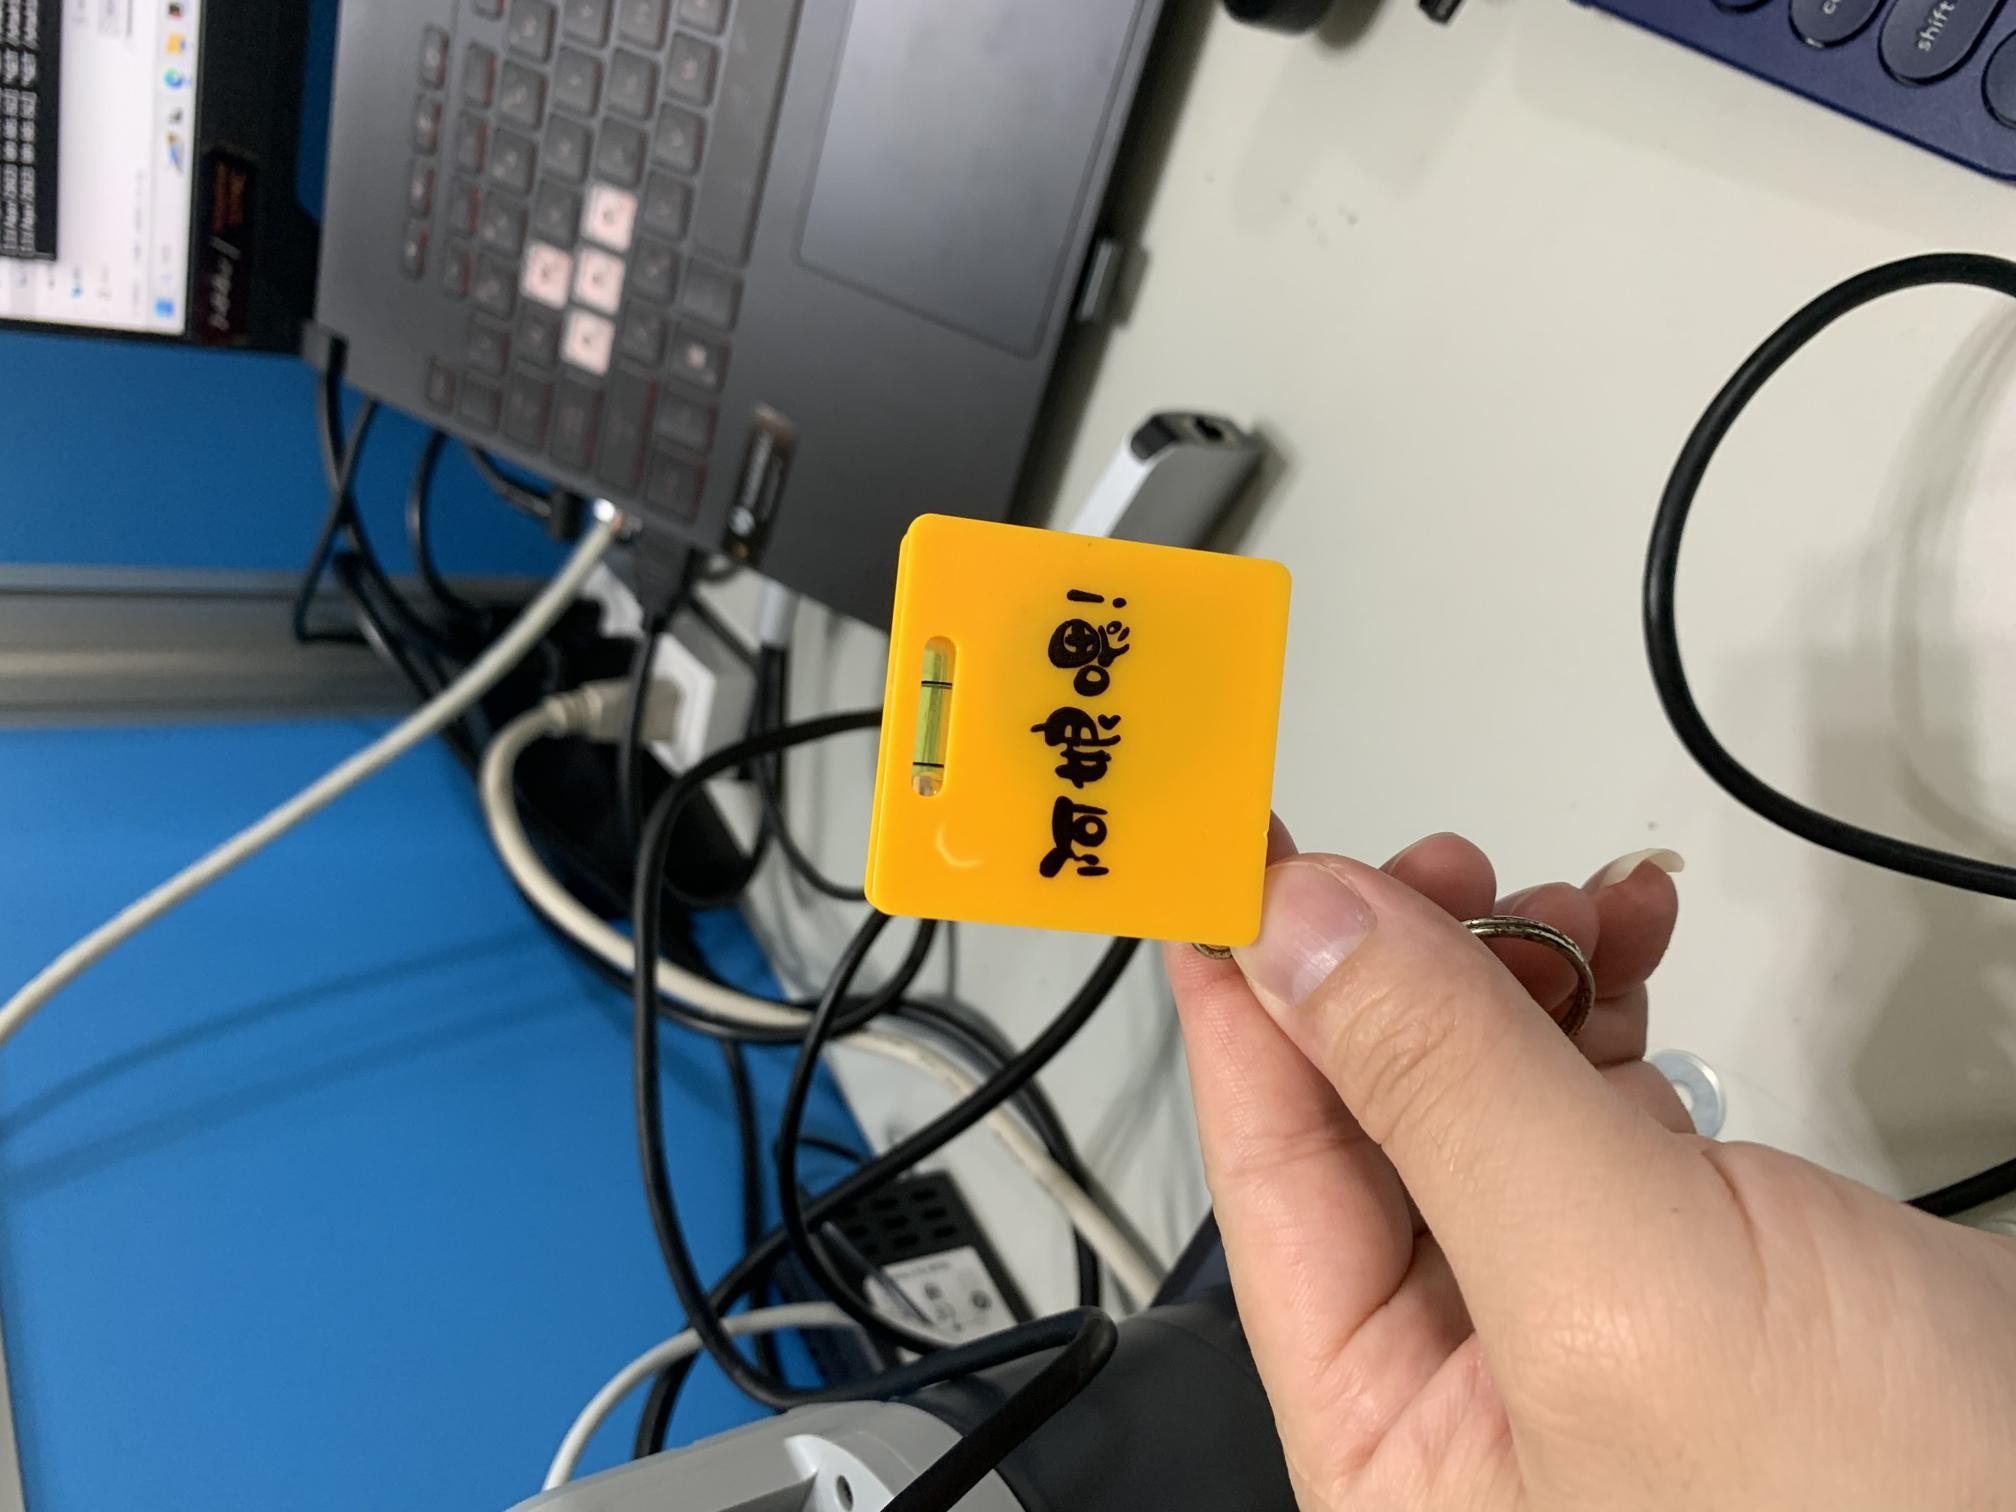Laio: (813, 495, 1297, 947)
